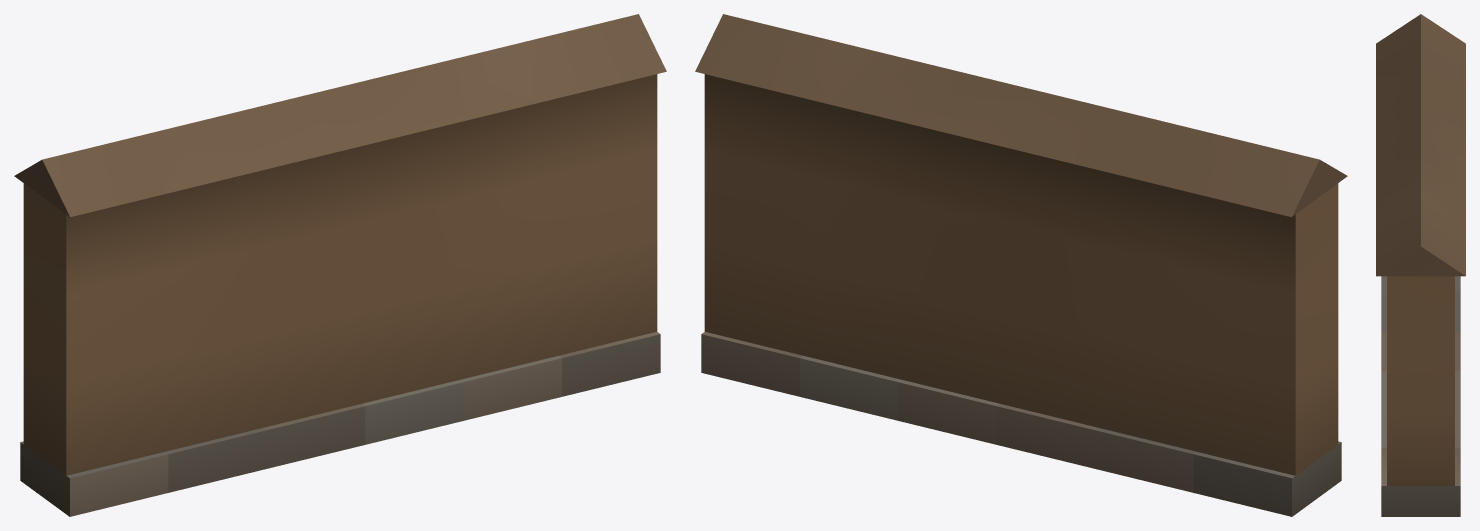
The model's file is casa_tapia_adobe_a.glb.
3 views of the same model, side by side, from view 1: azimuth 30°, elevation 25°; view 2: azimuth 150°, elevation 25°; view 3: azimuth 270°, elevation 25° (orthographic). The views are drawn at different scales.
Visible parts, largest first — view 1: casa_tapia_adobe_a; view 2: casa_tapia_adobe_a; view 3: casa_tapia_adobe_a.
Part boxes in pixels (left/top/right/bottom): casa_tapia_adobe_a: left=14, top=14, right=666, bottom=516; casa_tapia_adobe_a: left=695, top=14, right=1347, bottom=516; casa_tapia_adobe_a: left=1376, top=14, right=1465, bottom=516.
Bounding box in the file's own units: 4.04 × 2.2 × 0.66.
